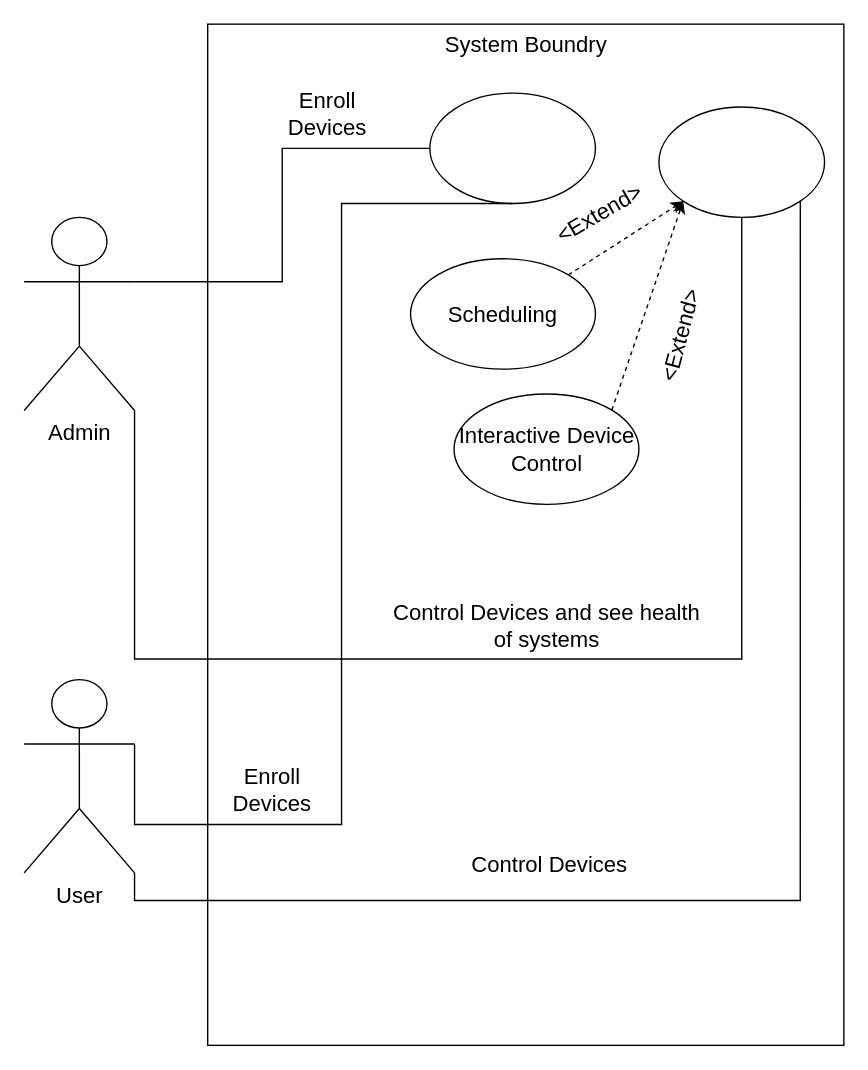
This 868x1070 diagram has some shape labels left out. Here are the shapes that lost their labels. From the top down, the box of each, then its label:
(428, 92, 595, 204): Device Enrollment
(658, 106, 825, 217): Control Dashboard
